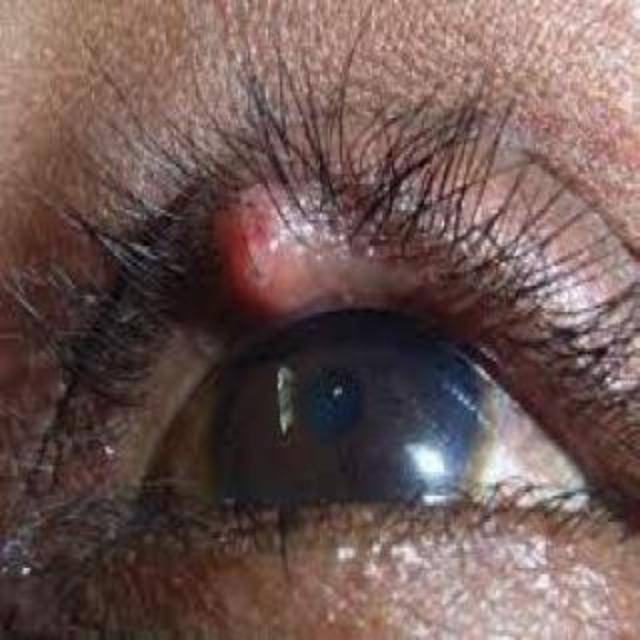Stye: (188, 178, 416, 378)
